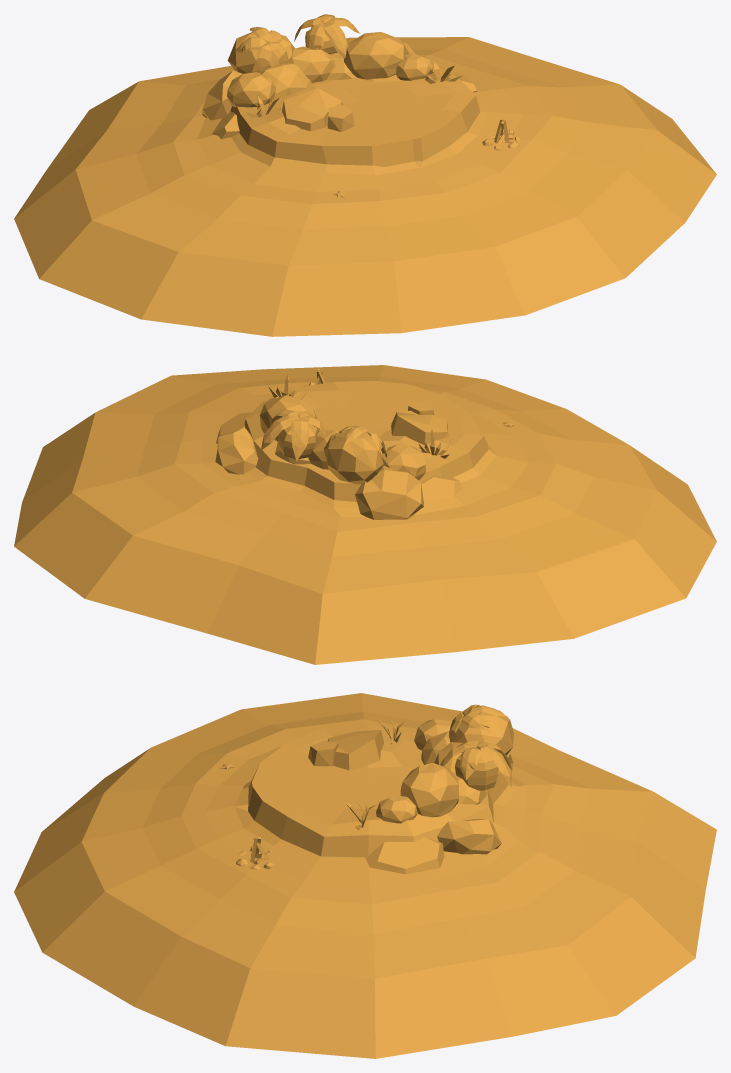
Rendered from island.fbx.
3 renders of one model, top to bottom at view 1: azimuth 30°, elevation 25°; view 2: azimuth 150°, elevation 25°; view 3: azimuth 270°, elevation 25°, orthographic. The views are drawn at different scales.
Visible parts, largest first — view 1: island; view 2: island; view 3: island.
Part boxes in pixels (x1=…): island: x1=14, y1=14, x2=716, y2=336; island: x1=14, y1=365, x2=716, y2=664; island: x1=14, y1=693, x2=716, y2=1058.
Size of the model in its own units: 12.76 by 2.76 by 11.05.
